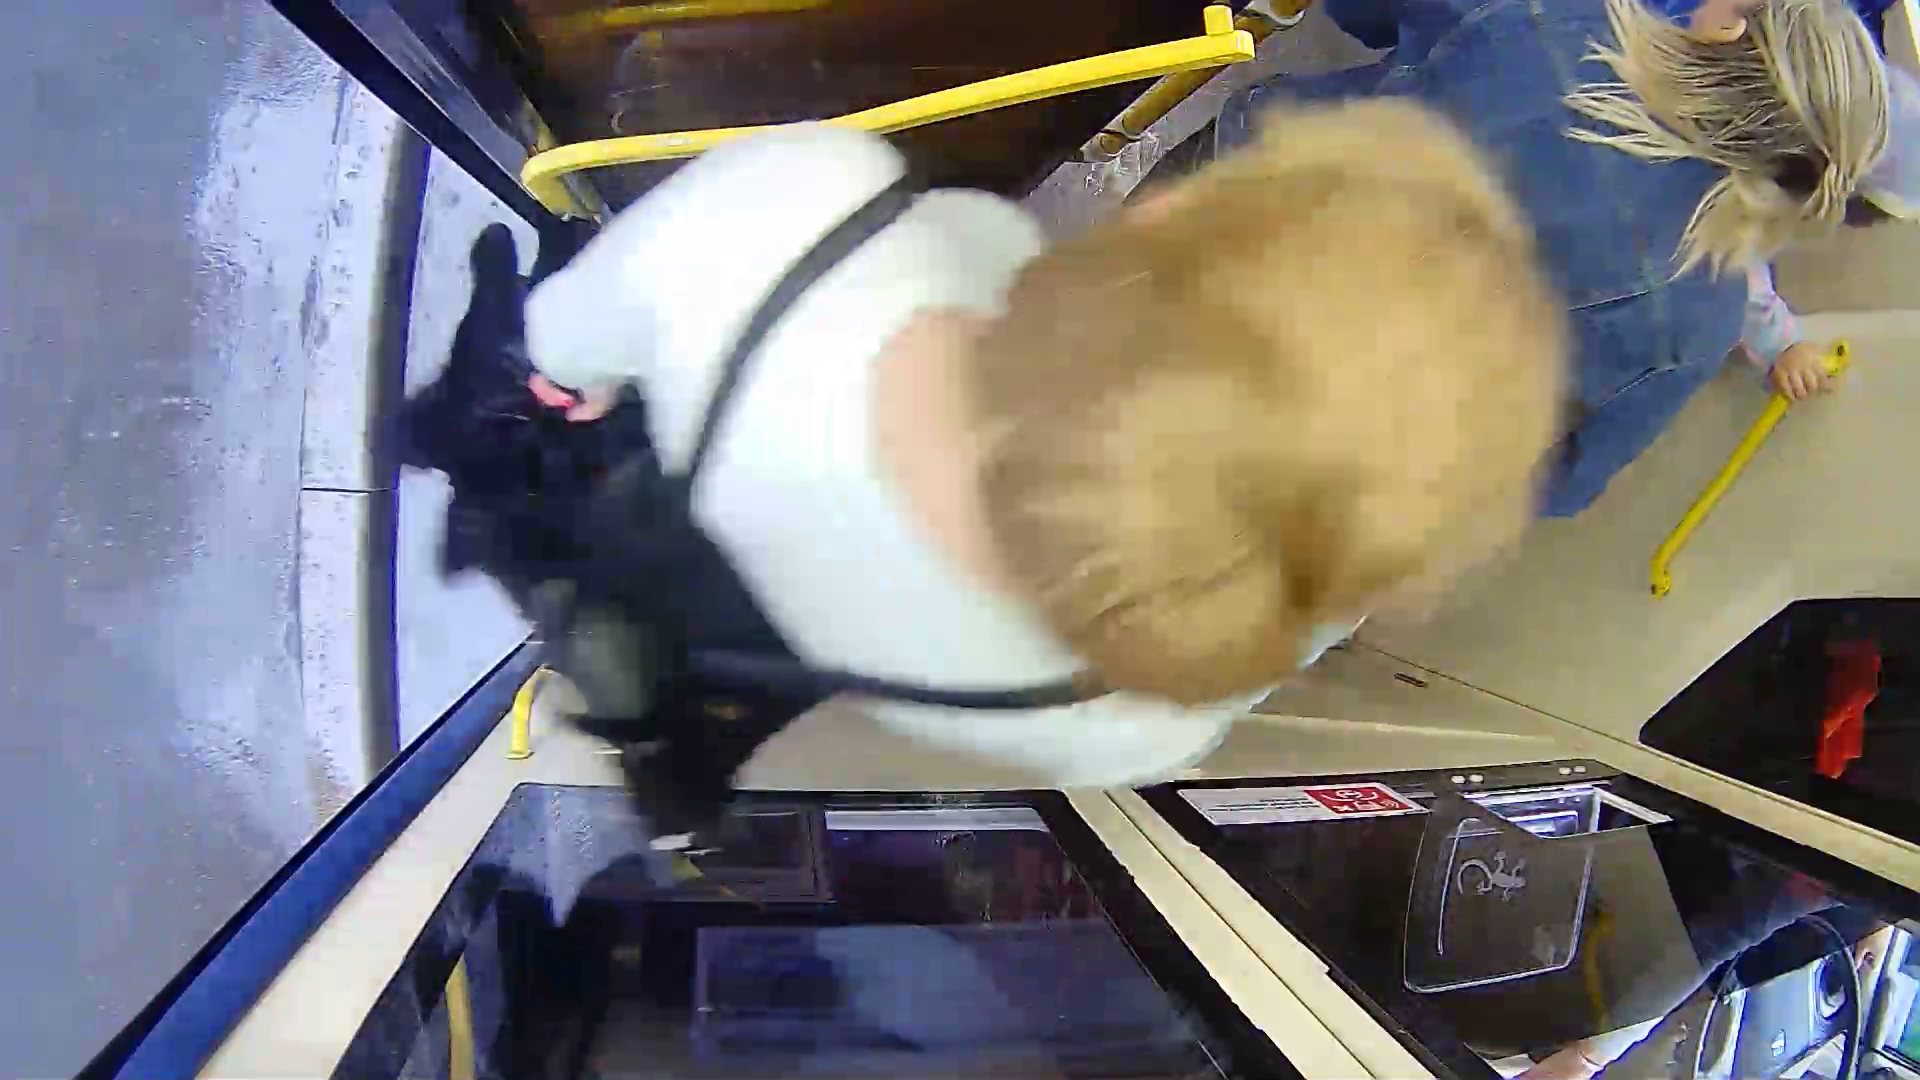person: (492, 104, 1637, 767)
